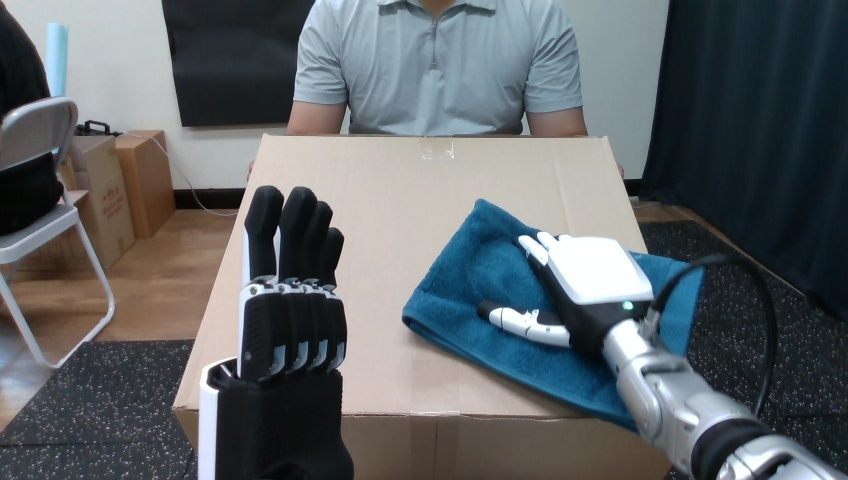left robot hand: (198, 186, 352, 478), (758, 266, 847, 473), (686, 266, 765, 406)
